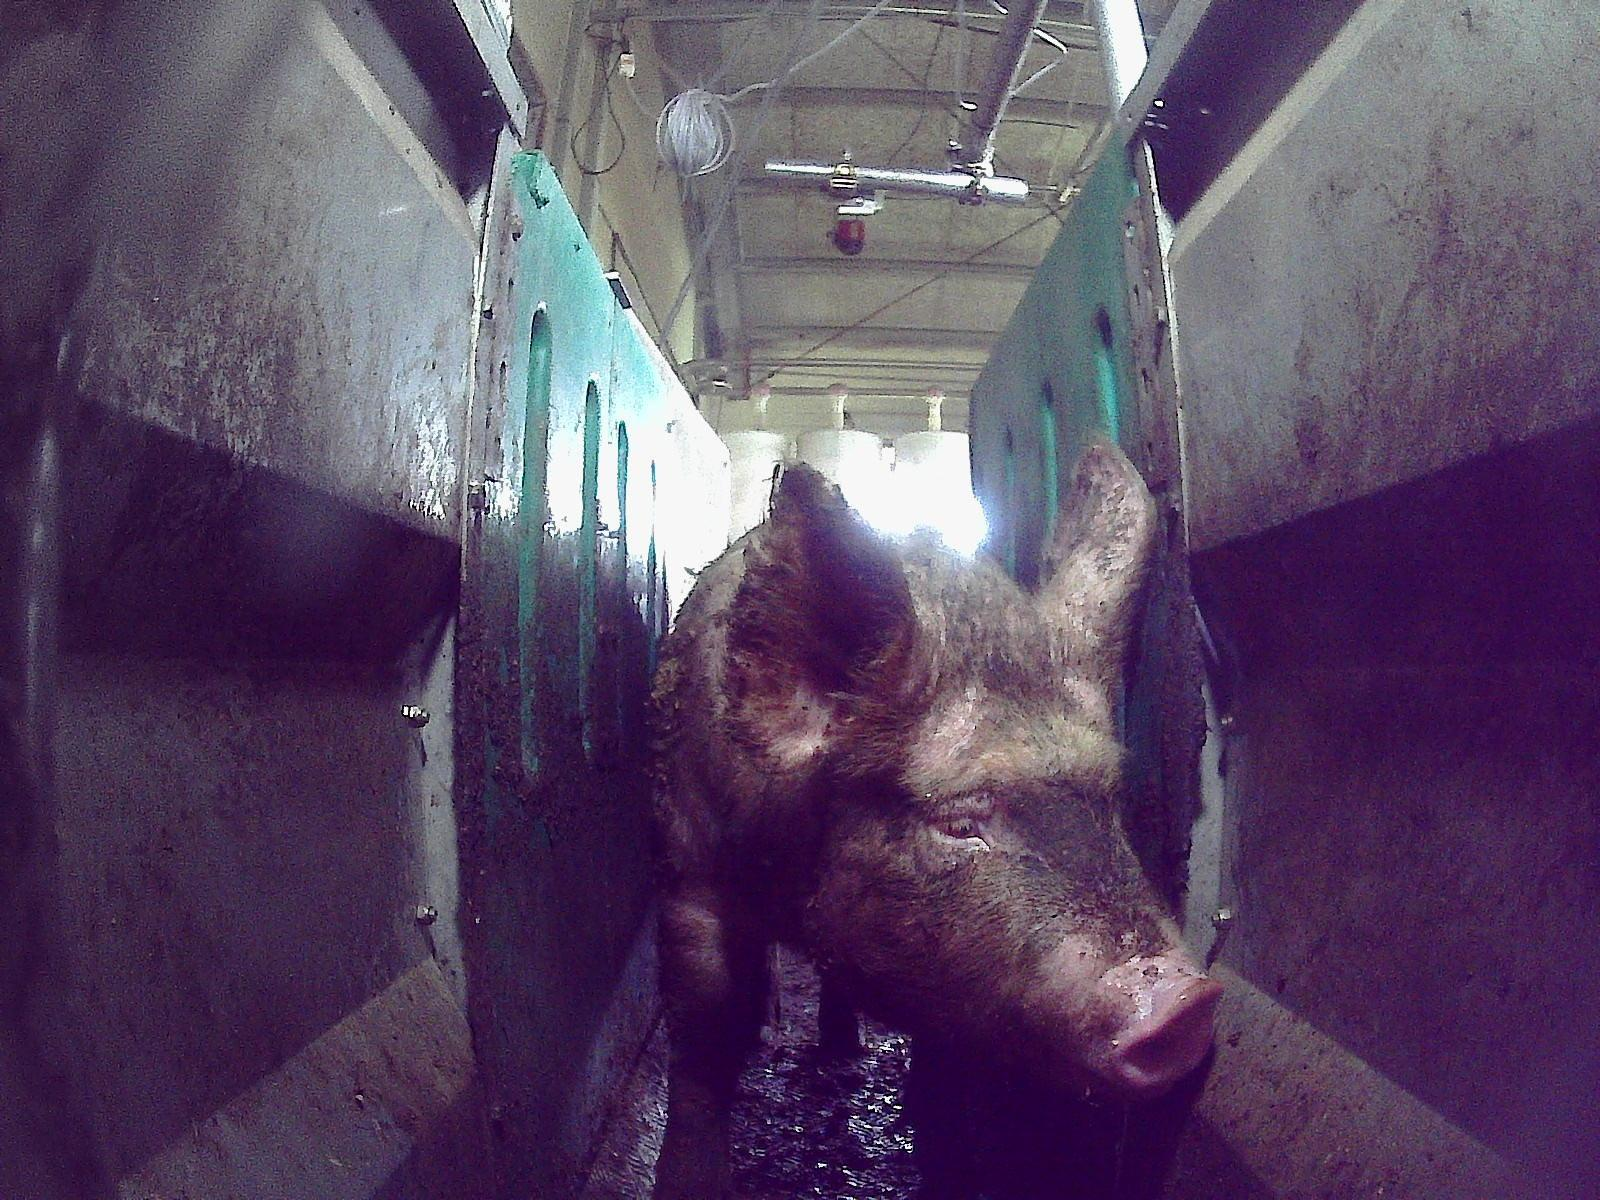Face: (788, 546, 1225, 1111)
